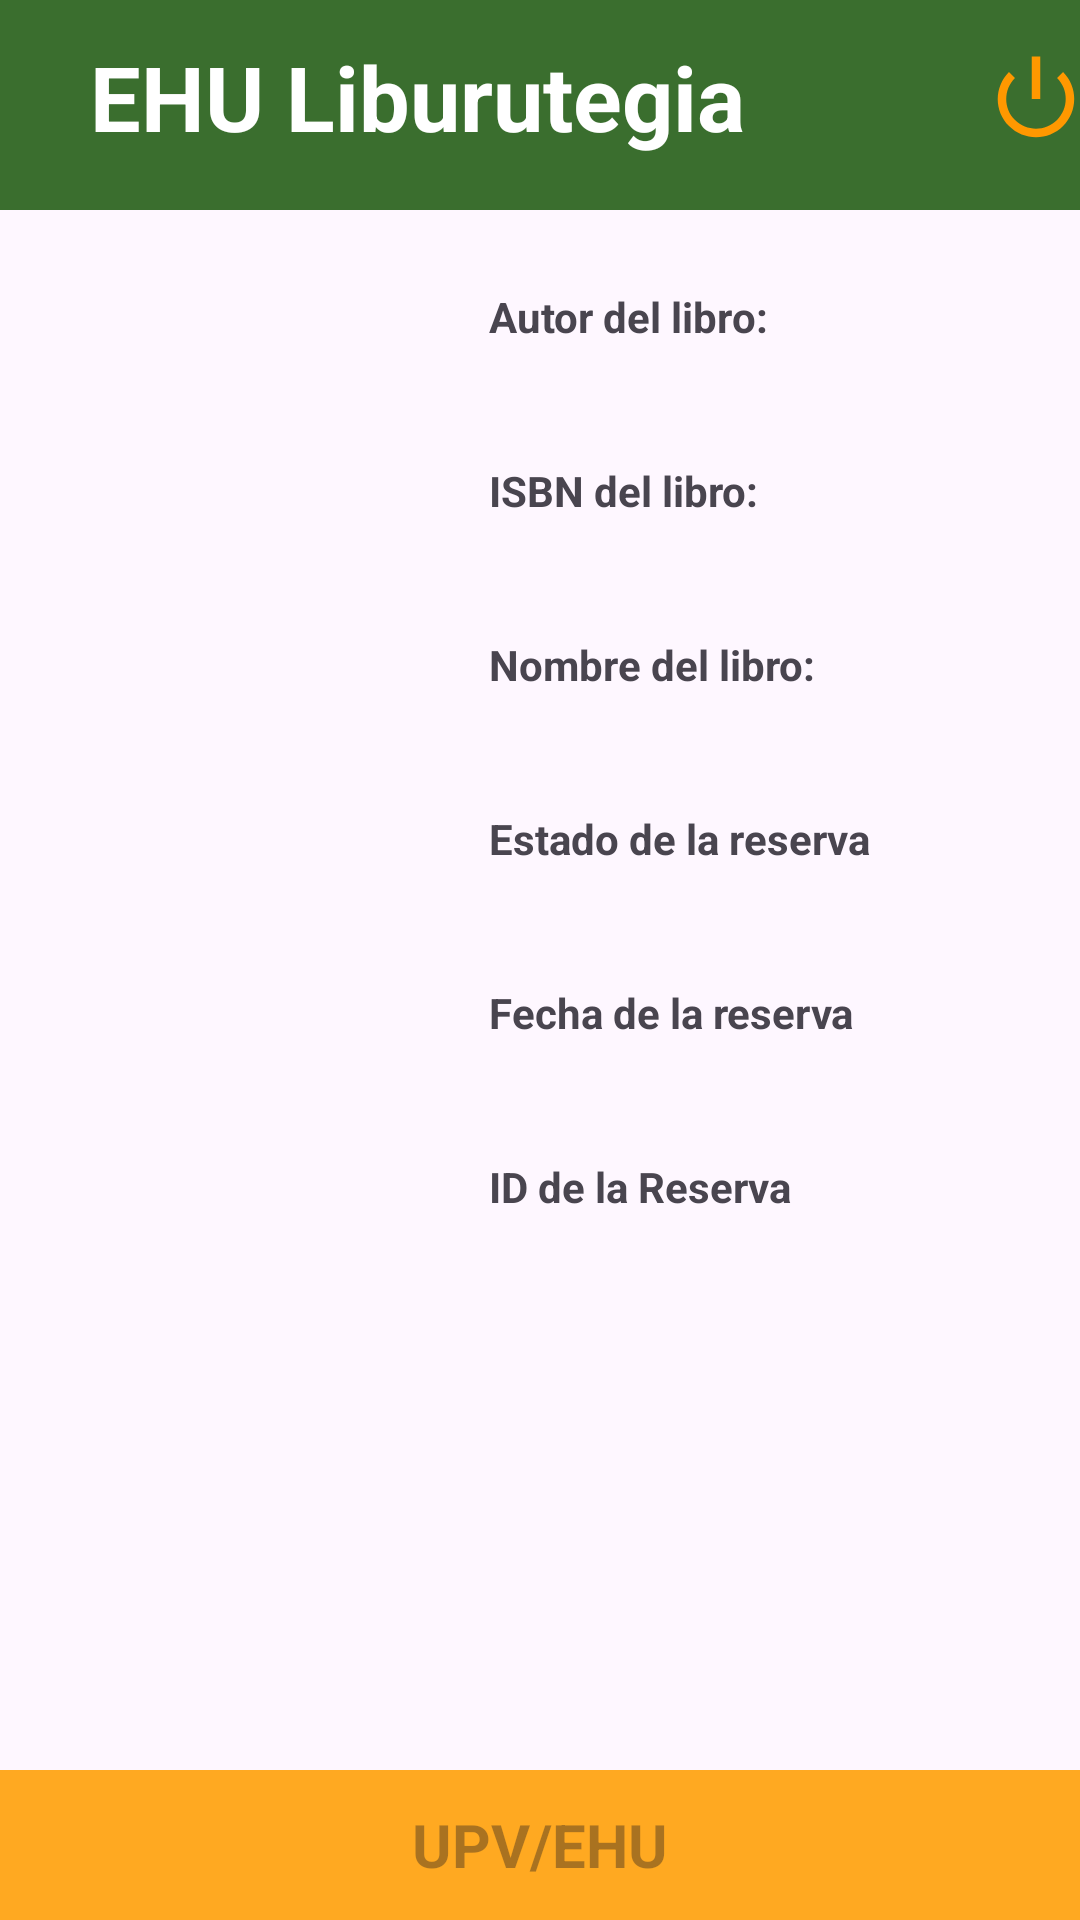

Named icons in this screenshot (1080×1920) and their centers, point (x, y):
lock power off: point (1036, 97)
